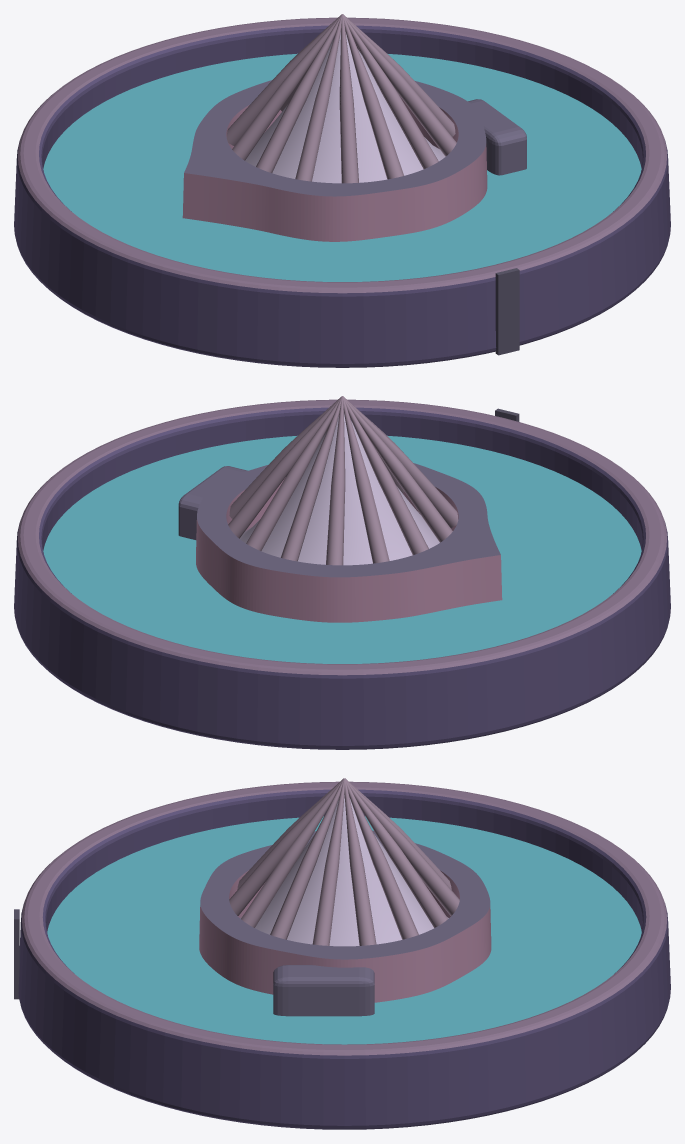
File: fountain.fbx
The picture shows the model from 3 angles, top to bottom: view 1: azimuth 30°, elevation 25°; view 2: azimuth 150°, elevation 25°; view 3: azimuth 270°, elevation 25°; orthographic projection.
Visible parts, largest first — view 1: FOUNTAIN_rim, FOUNTAIN_water, FOUNTAIN_dish, FOUNTAIN_bowl, FOUNTAIN_tab, FOUNTAIN_rib7, FOUNTAIN_rib11, FOUNTAIN_rib10, FOUNTAIN_rib6, FOUNTAIN_rib9, FOUNTAIN_slot, FOUNTAIN_rib12 (+3 smaller); view 2: FOUNTAIN_rim, FOUNTAIN_water, FOUNTAIN_dish, FOUNTAIN_bowl, FOUNTAIN_rib6, FOUNTAIN_rib2, FOUNTAIN_rib3, FOUNTAIN_rib4, FOUNTAIN_rib7, FOUNTAIN_rib1, FOUNTAIN_rib5, FOUNTAIN_tab (+2 smaller); view 3: FOUNTAIN_rim, FOUNTAIN_water, FOUNTAIN_dish, FOUNTAIN_bowl, FOUNTAIN_tab, FOUNTAIN_rib1, FOUNTAIN_rib12, FOUNTAIN_rib0, FOUNTAIN_rib13, FOUNTAIN_rib2, FOUNTAIN_rib11, FOUNTAIN_rib10 (+2 smaller).
Boxes of the visible parts, left/top/right/bottom form: FOUNTAIN_rim: left=14, top=17, right=670, bottom=367; FOUNTAIN_water: left=43, top=53, right=641, bottom=281; FOUNTAIN_dish: left=182, top=80, right=487, bottom=241; FOUNTAIN_bowl: left=245, top=32, right=445, bottom=183; FOUNTAIN_tab: left=468, top=99, right=526, bottom=175; FOUNTAIN_rib7: left=256, top=15, right=341, bottom=172; FOUNTAIN_rib11: left=343, top=15, right=438, bottom=168; FOUNTAIN_rib10: left=342, top=15, right=403, bottom=179; FOUNTAIN_rib6: left=232, top=14, right=341, bottom=160; FOUNTAIN_rib9: left=339, top=15, right=358, bottom=183; FOUNTAIN_slot: left=495, top=268, right=519, bottom=355; FOUNTAIN_rib12: left=343, top=14, right=456, bottom=156; FOUNTAIN_rim: left=14, top=399, right=670, bottom=749; FOUNTAIN_water: left=43, top=435, right=641, bottom=663; FOUNTAIN_dish: left=196, top=463, right=502, bottom=622; FOUNTAIN_bowl: left=239, top=414, right=439, bottom=565; FOUNTAIN_rib6: left=343, top=397, right=428, bottom=554; FOUNTAIN_rib2: left=246, top=397, right=341, bottom=550; FOUNTAIN_rib3: left=281, top=397, right=342, bottom=561; FOUNTAIN_rib4: left=326, top=397, right=345, bottom=565; FOUNTAIN_rib7: left=343, top=396, right=452, bottom=542; FOUNTAIN_rib1: left=228, top=396, right=341, bottom=538; FOUNTAIN_rib5: left=342, top=397, right=389, bottom=563; FOUNTAIN_tab: left=178, top=466, right=247, bottom=539; FOUNTAIN_rim: left=18, top=781, right=670, bottom=1129; FOUNTAIN_water: left=47, top=816, right=641, bottom=1044; FOUNTAIN_dish: left=199, top=830, right=491, bottom=1002; FOUNTAIN_bowl: left=240, top=795, right=448, bottom=946; FOUNTAIN_tab: left=273, top=965, right=374, bottom=1016; FOUNTAIN_rib1: left=345, top=779, right=418, bottom=939; FOUNTAIN_rib12: left=270, top=779, right=344, bottom=939; FOUNTAIN_rib0: left=344, top=779, right=376, bottom=945; FOUNTAIN_rib13: left=312, top=779, right=344, bottom=945; FOUNTAIN_rib2: left=346, top=779, right=447, bottom=927; FOUNTAIN_rib11: left=241, top=779, right=343, bottom=927; FOUNTAIN_rib10: left=229, top=778, right=343, bottom=915.
Bounding box in the file's own units: 1180 × 429 × 1187.
